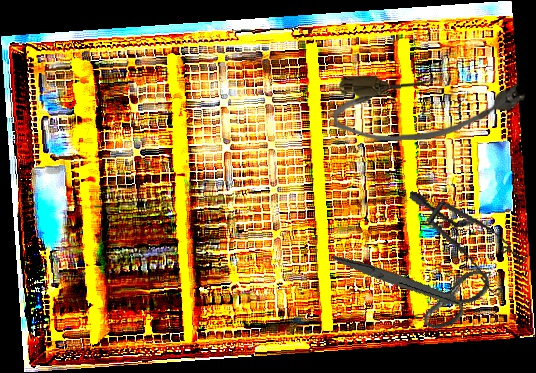Cannula: (333, 73, 526, 142)
Iris Scissors: (330, 218, 499, 351)
Speculum: (393, 191, 536, 301)
